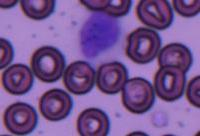L: (78, 10, 120, 58)
